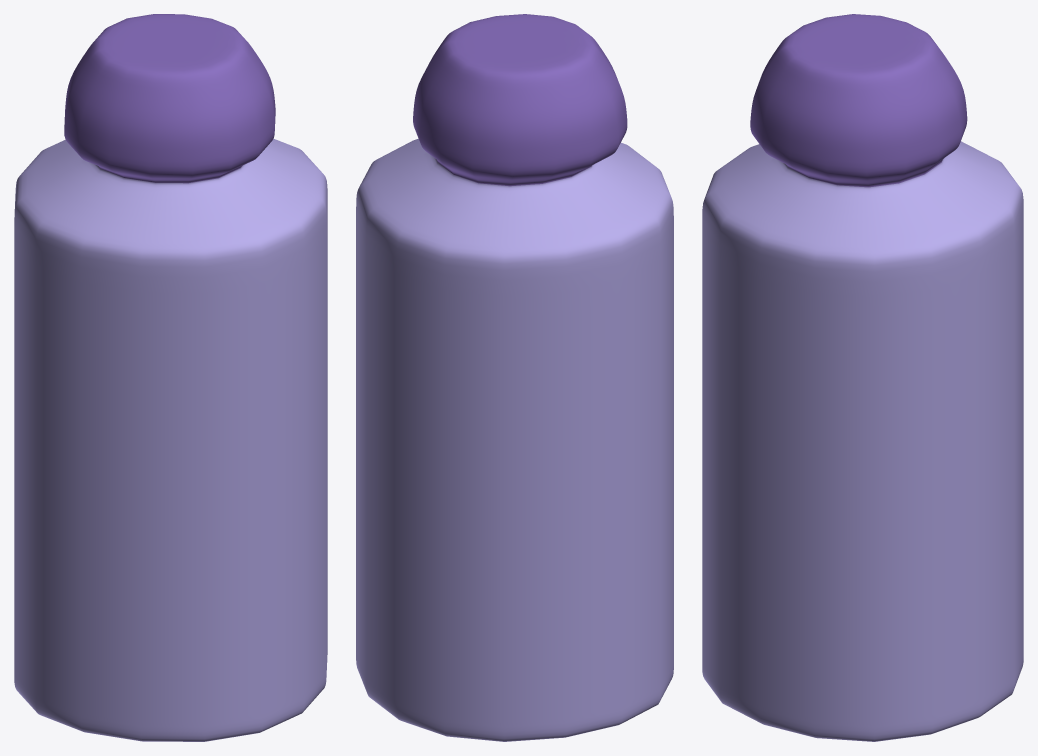
The model's file is water bottle plain.glb.
The picture shows the model from 3 angles, left to right: view 1: azimuth 30°, elevation 25°; view 2: azimuth 150°, elevation 25°; view 3: azimuth 270°, elevation 25°; orthographic projection.
Parts seen in each view (by area): view 1: water bottle; view 2: water bottle; view 3: water bottle.
Boxes of the visible parts, x1,y1,x2,y2 form: water bottle: [14, 14, 327, 741]; water bottle: [356, 14, 673, 741]; water bottle: [702, 14, 1023, 741].
Size of the model in its own units: 0.1016 by 0.2206 by 0.1016.
